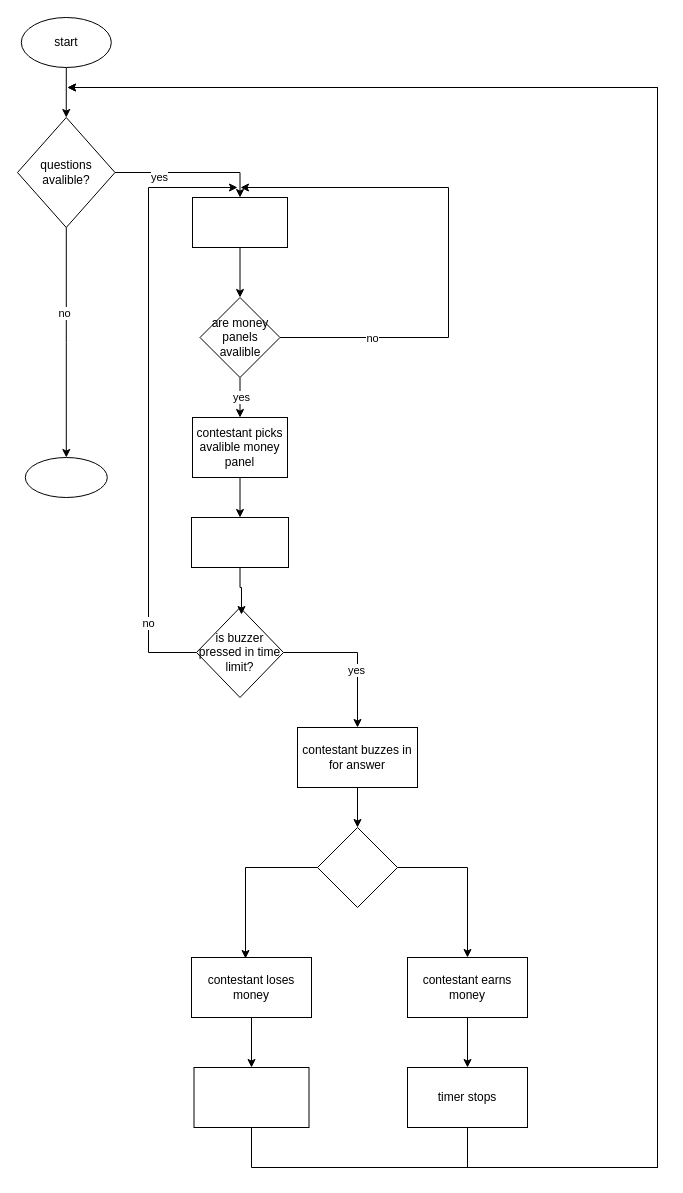
The diagram is 683 pixels wide and 1193 high, and some of its shapes have lost their labels. Each missing label, with the centre of its shape:
"answor correct?" goes at [357,867].
"contestant picks catigory" goes at [240,222].
"end" goes at [65,477].
"hint is given" goes at [239,542].
"timer decreases" goes at [251,1097].
